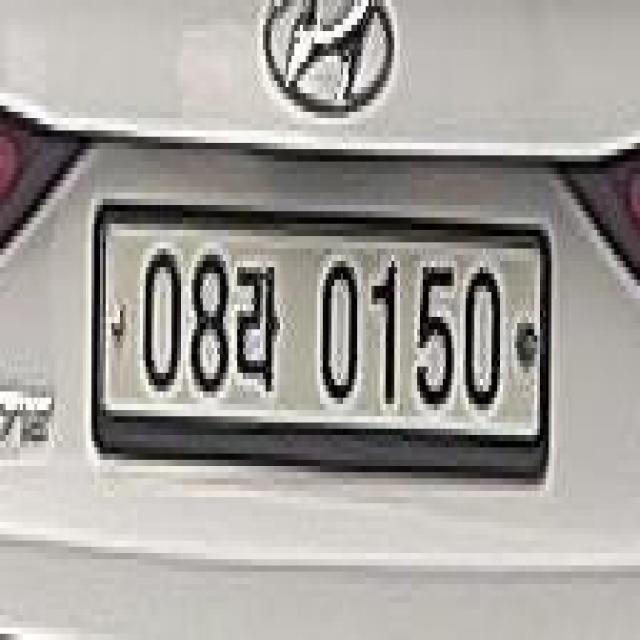illegal_plate: (88, 189, 553, 512)
